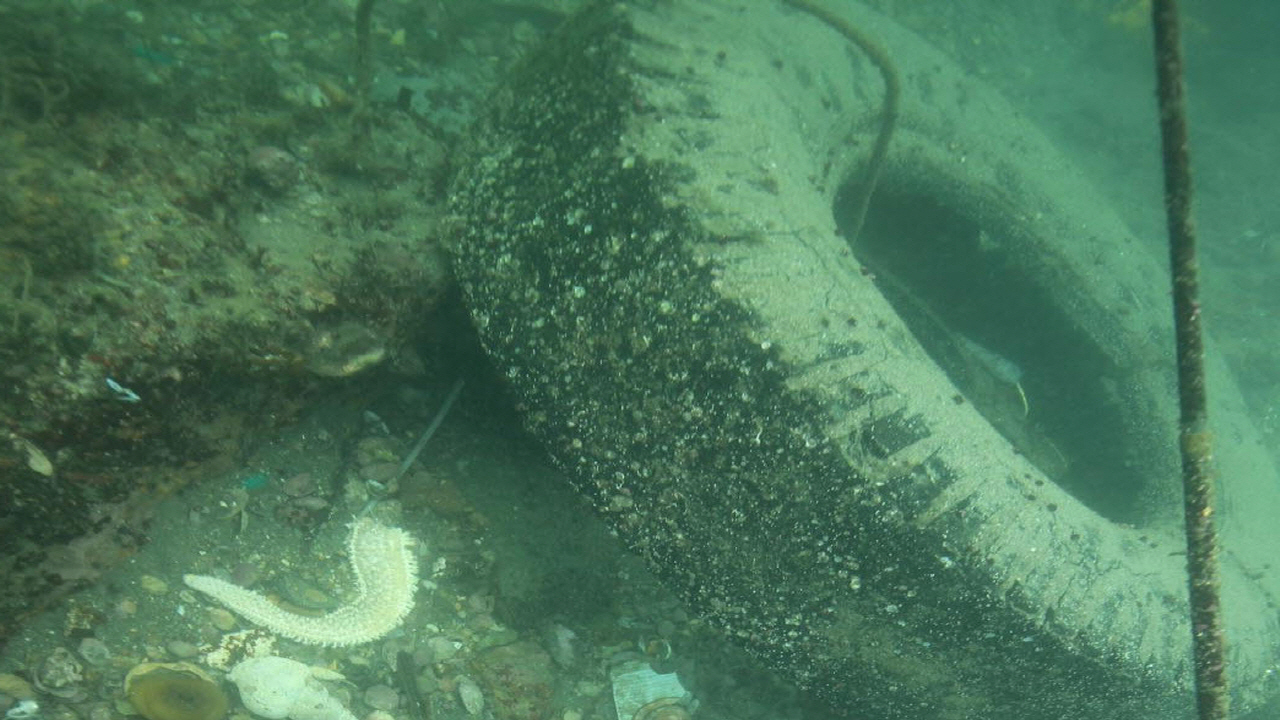tire: (442, 0, 1280, 720)
